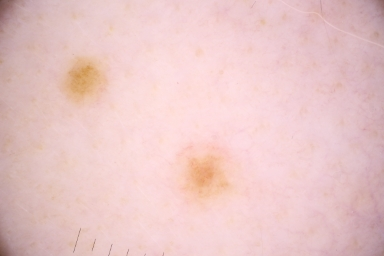melanoma: (182, 157, 229, 200), (61, 62, 105, 102)
